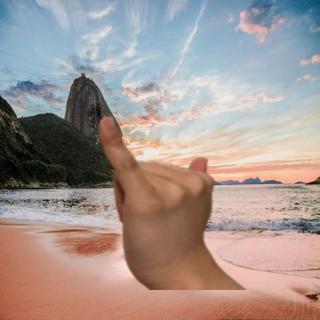HAVE: (87, 111, 236, 290)
